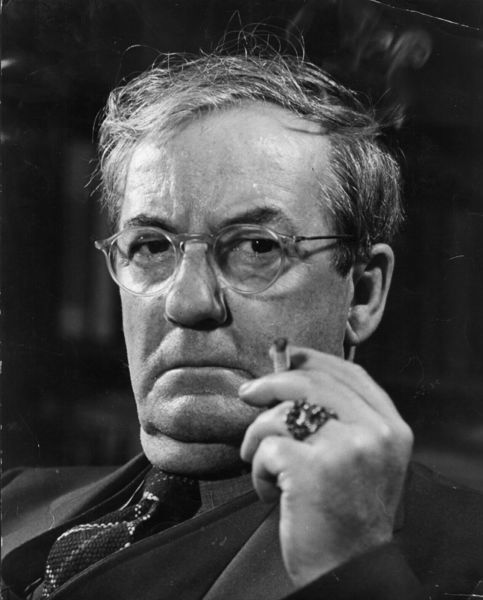cigarette: (202, 379, 233, 434)
